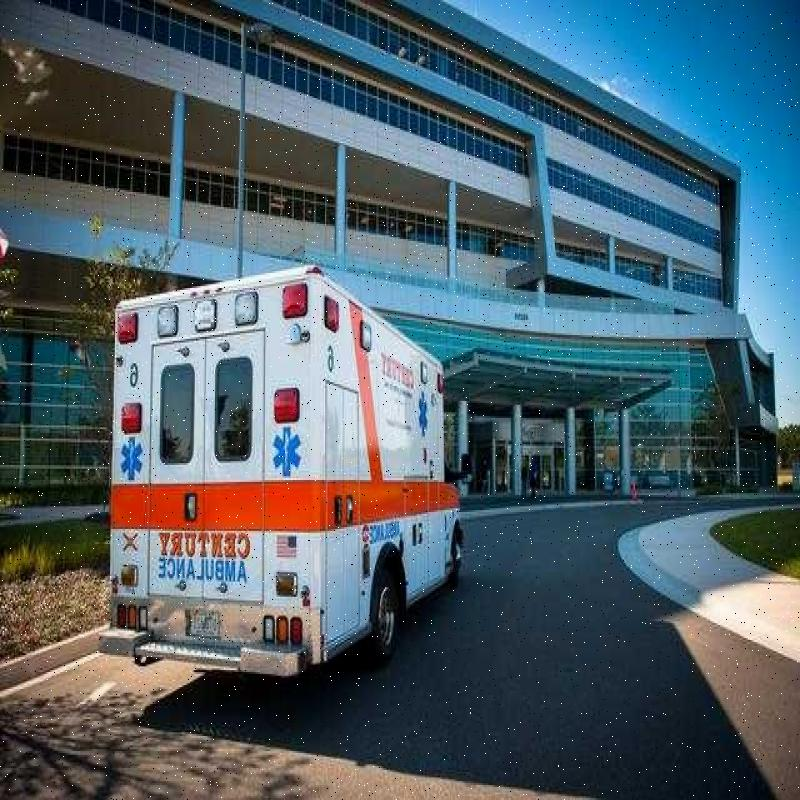AmbulanceSiren: (108, 255, 314, 358), (110, 269, 320, 357)
